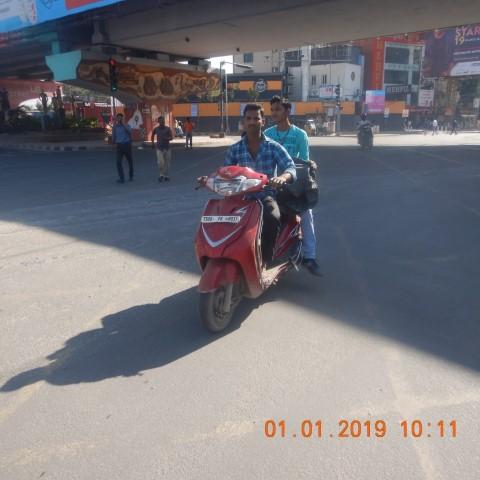plate: (201, 214, 241, 223)
